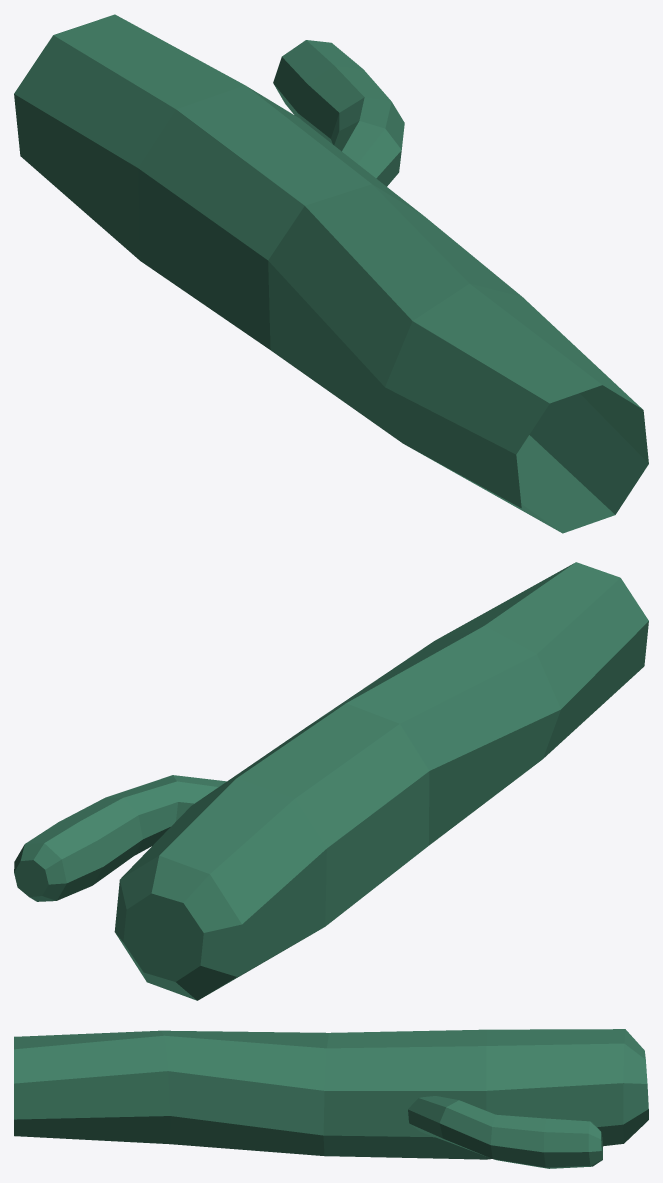
The model's file is Cactus_3.fbx.
3 views of the same model, one above another, from view 1: azimuth 30°, elevation 25°; view 2: azimuth 150°, elevation 25°; view 3: azimuth 270°, elevation 25° (orthographic). The views are drawn at different scales.
Visible parts, largest first — view 1: Cactus_3.001; view 2: Cactus_3.001; view 3: Cactus_3.001.
Part boxes in pixels (x1=…): Cactus_3.001: x1=14, y1=14, x2=648, y2=533; Cactus_3.001: x1=14, y1=562, x2=648, y2=1000; Cactus_3.001: x1=14, y1=1029, x2=648, y2=1168.
Size of the model in its own units: 1.27 by 0.7297 by 3.72.
